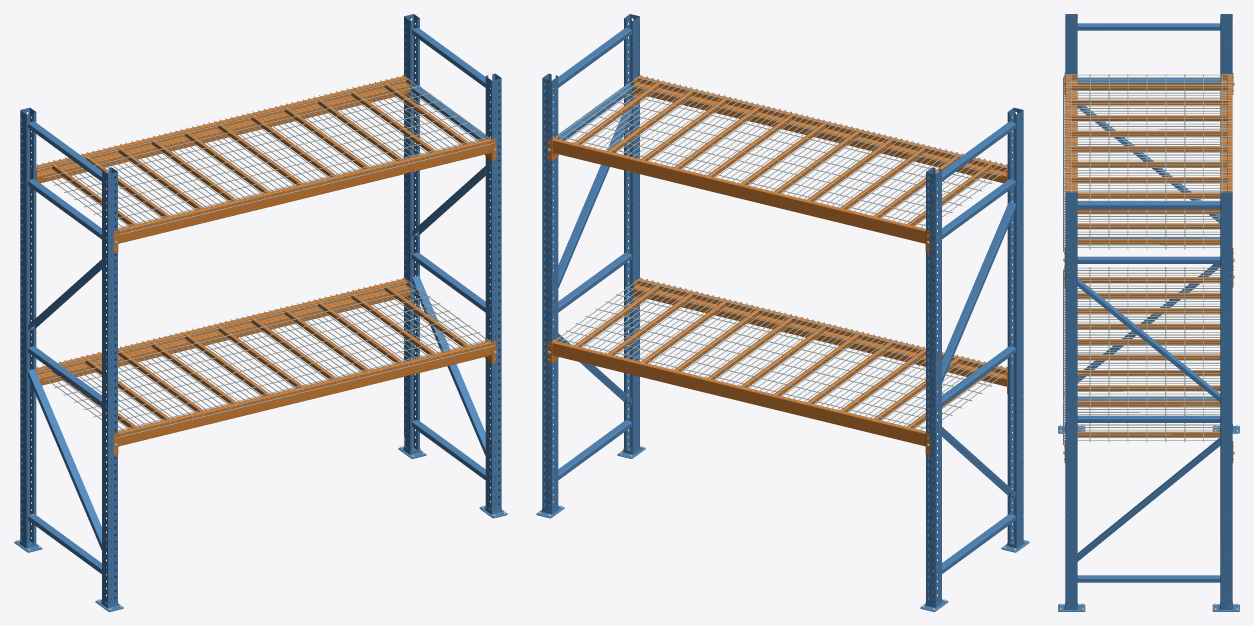
Rendered from rack_h3m_s02.glb.
3 renders of one model, left to right at view 1: azimuth 30°, elevation 25°; view 2: azimuth 150°, elevation 25°; view 3: azimuth 270°, elevation 25°, orthographic. The views are drawn at different scales.
Size of the model in its own units: 2.88 by 3 by 1.2.
